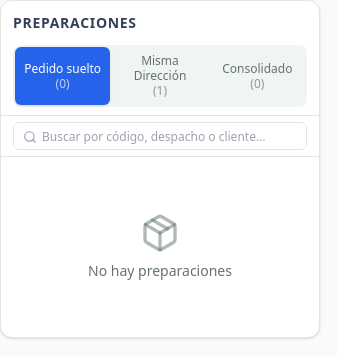
Test: PendingSidebar — tarjetas › el cliente SÍ se muestra en la pestaña misma_direccion
The width and height of the screenshot is (337, 356).
What coordinates should you click on to do the following:
click the tab "Misma Dirección (1)"
I would click on:
 (160, 76)
Its box is [112,47,208,105].
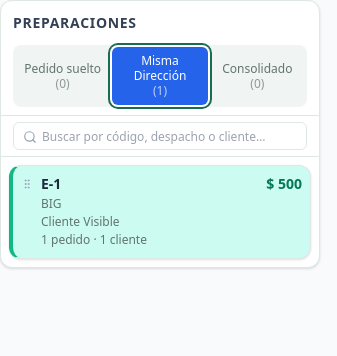
Now the text "Cliente Visible" is shown, box [41,214,120,230]
